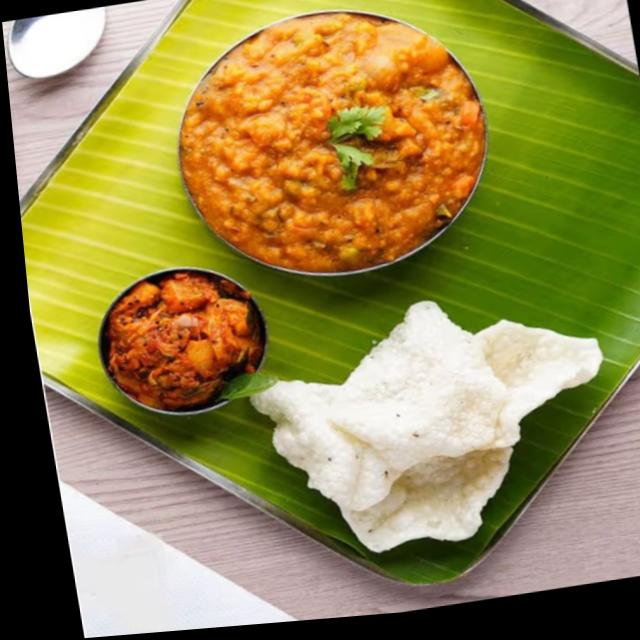CURRY: (91, 259, 261, 419)
PAPADAM: (239, 299, 602, 561)
SAMBAR RICE: (166, 1, 488, 288)
